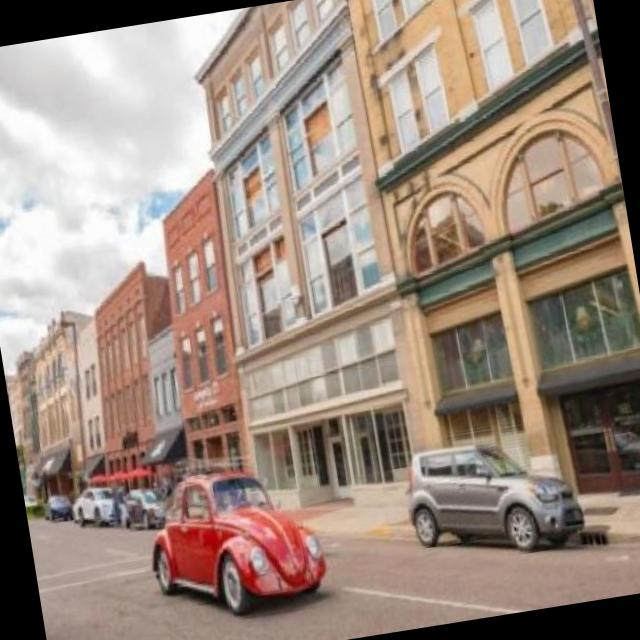car: (139, 458, 330, 616), (401, 415, 591, 570)
